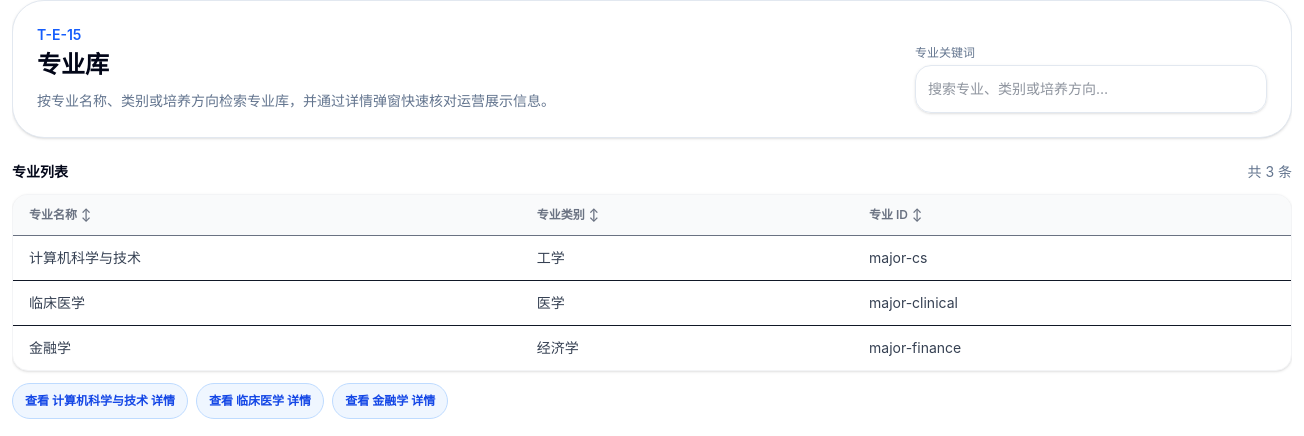
AdminMajorsPage › filters majors by keyword
Expected: the text "计算机科学与技术" is shown, [13,236,521,280]
Step 1. Type "医学" into the search field with placeholder "搜索专业、类别或培养方向…" → (1091, 89), box [915,65,1267,113]
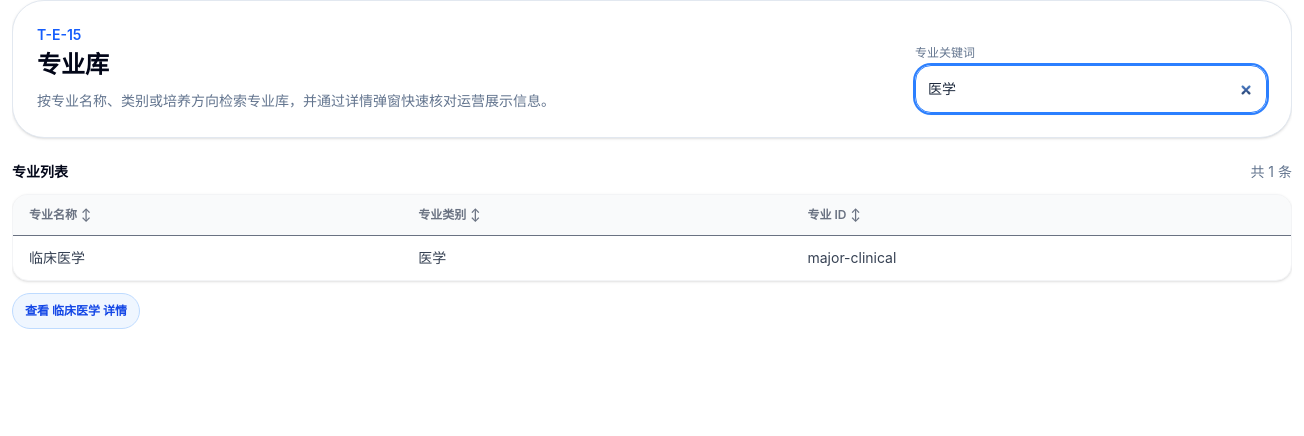
Expected: the text "临床医学" is shown, [13,236,402,280]
Expected: the text "计算机科学与技术" is gone
